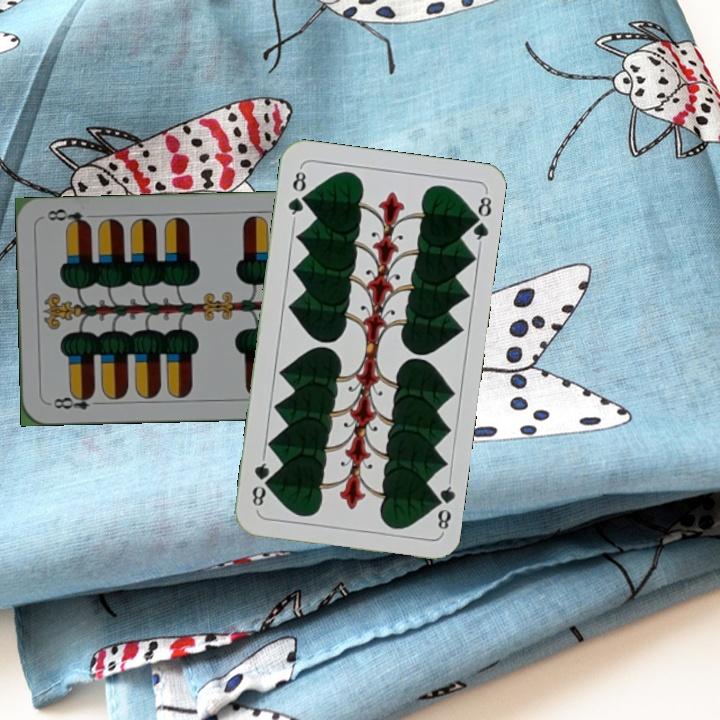E8: (45, 389, 104, 412)
G8: (428, 476, 458, 535), (283, 164, 309, 223)
